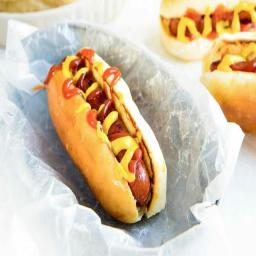hotdog: (42, 41, 168, 227)
